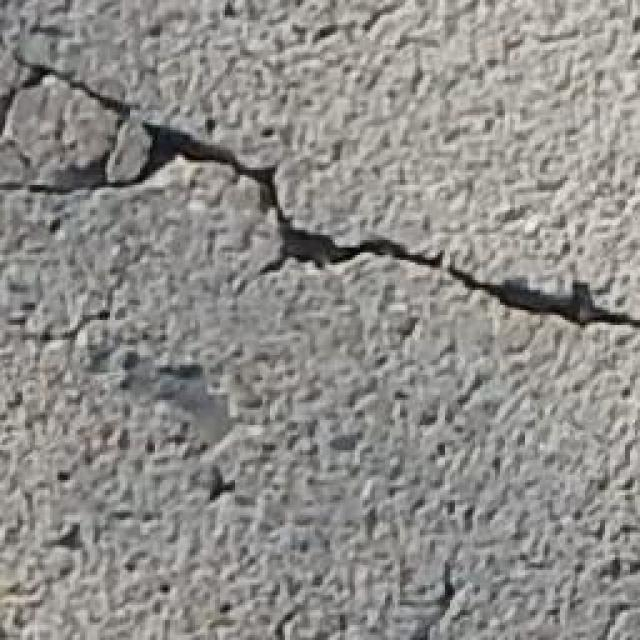concrete-crack: (0, 41, 640, 332)
